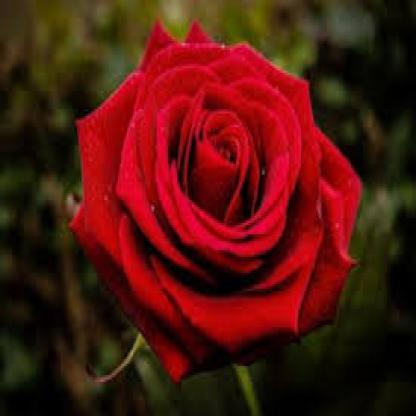Rose-Mawar: (69, 15, 364, 385)
